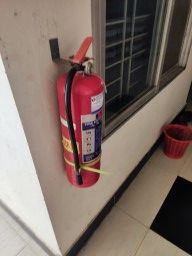fire_extinguisher: (27, 109, 141, 189)
